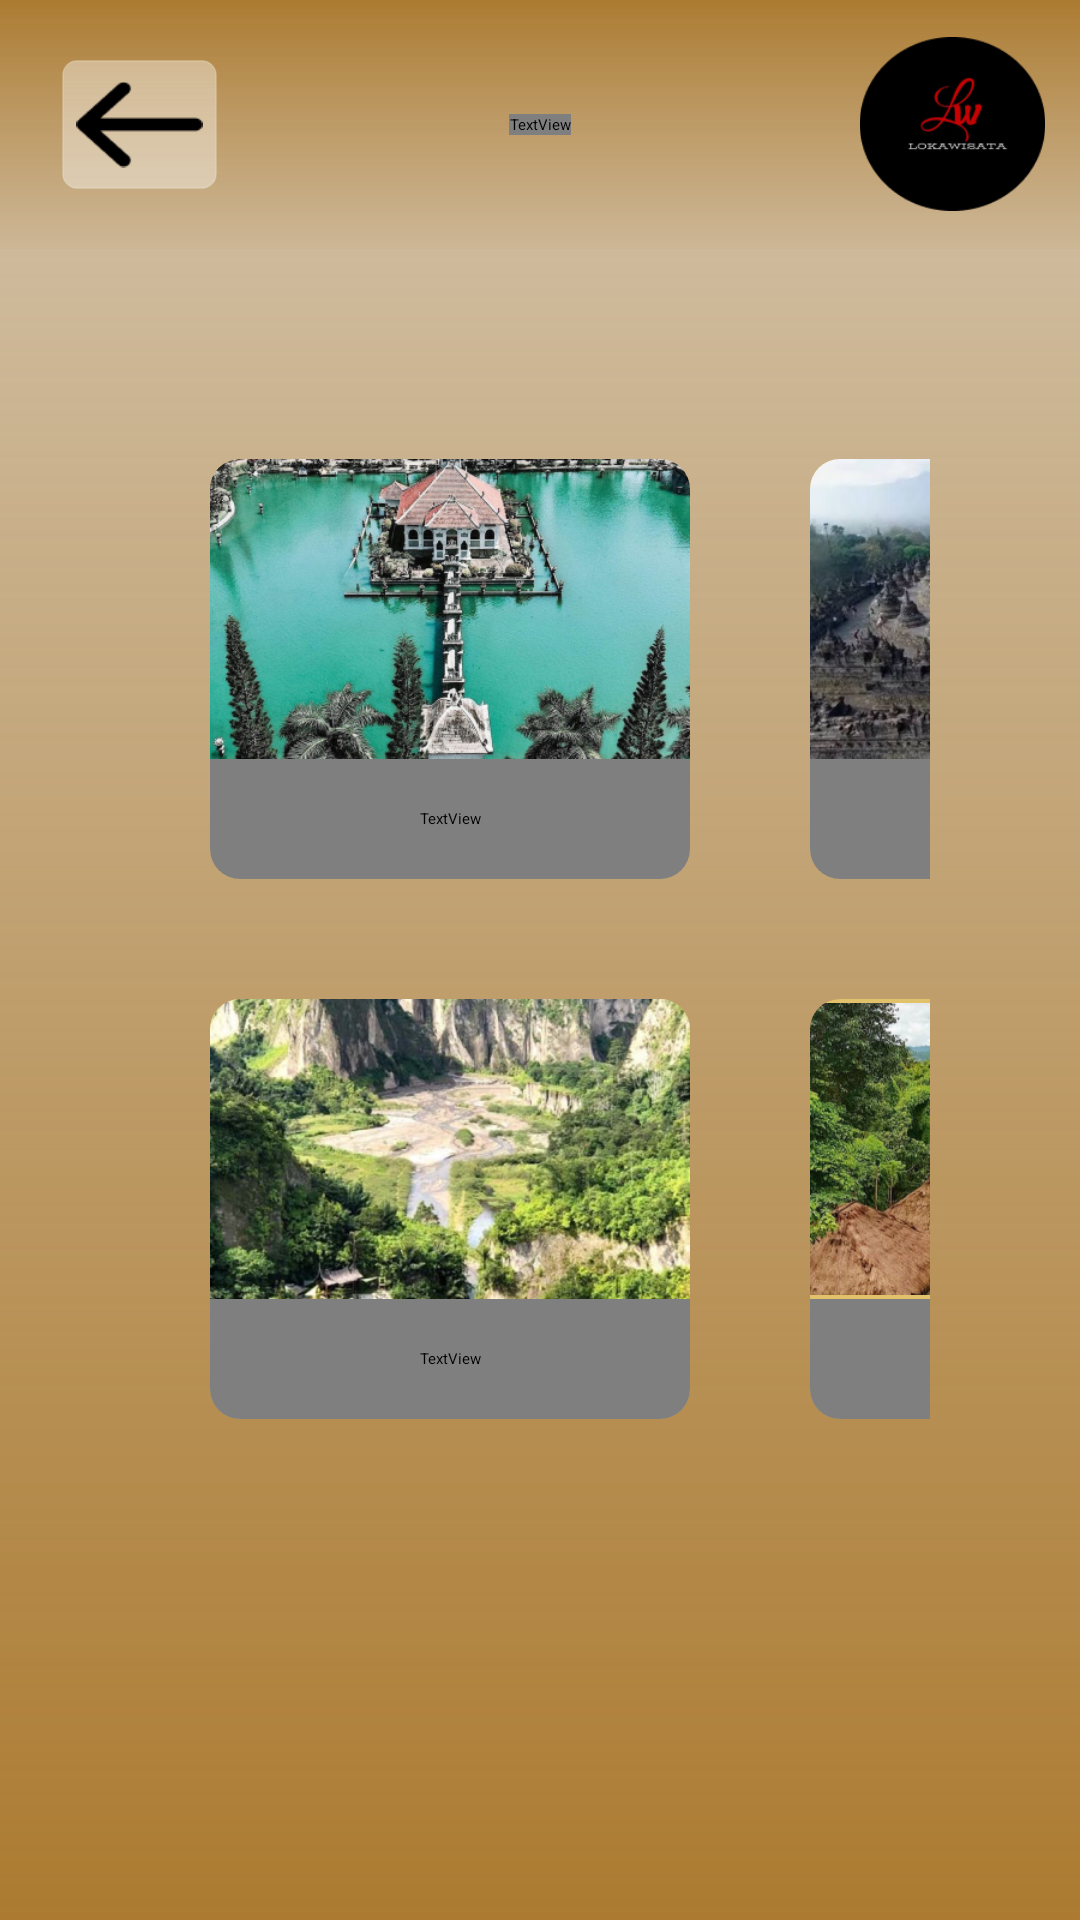

Named icons in this screenshot (1080 x 1920) and their centers, (x,y):
back: (139,124)
